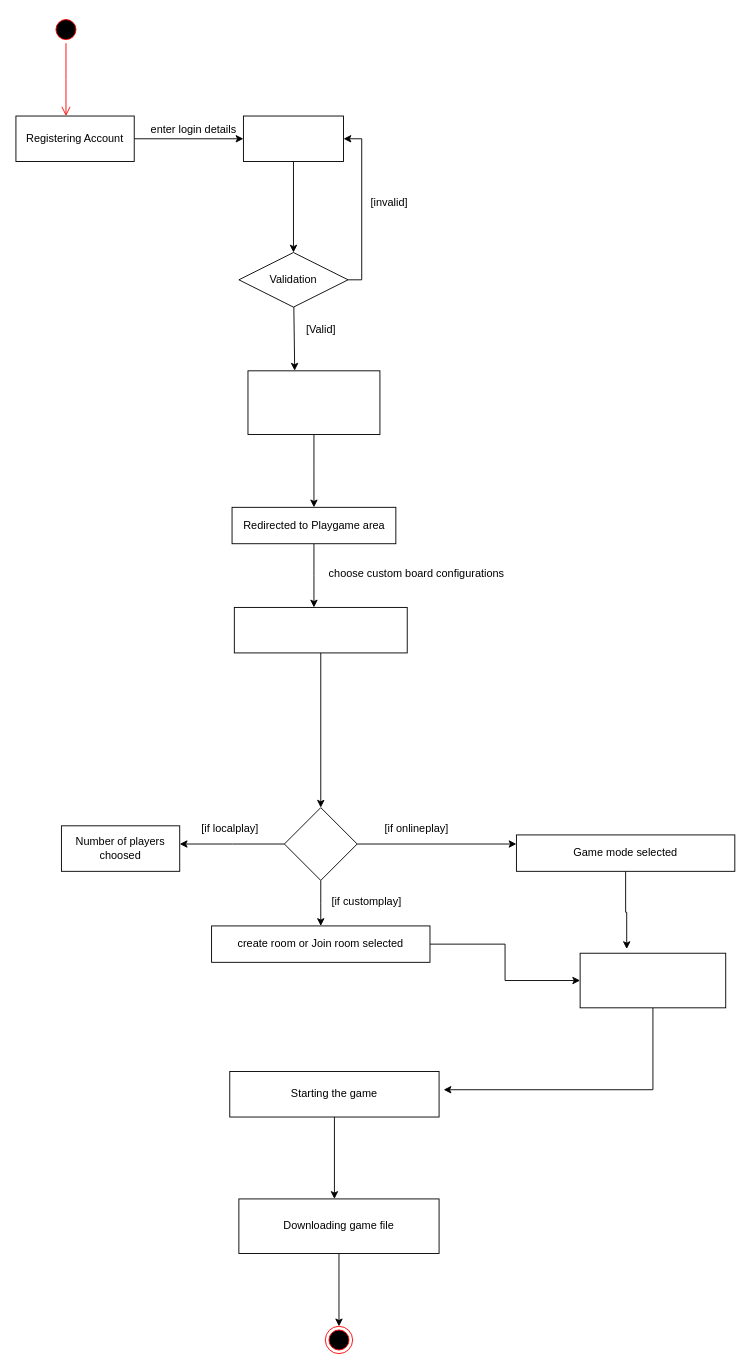
The diagram is 751 pixels wide and 1370 high, and some of its shapes have lost their labels. The shapes that lost their labels are listed below. From the top down, each one's centre as x and y in pixels, then its label:
the point at 293,138: Logging in
the point at 313,402: Validated
the point at 320,630: Choosing the game type
the point at 652,980: Waiting for players to join
